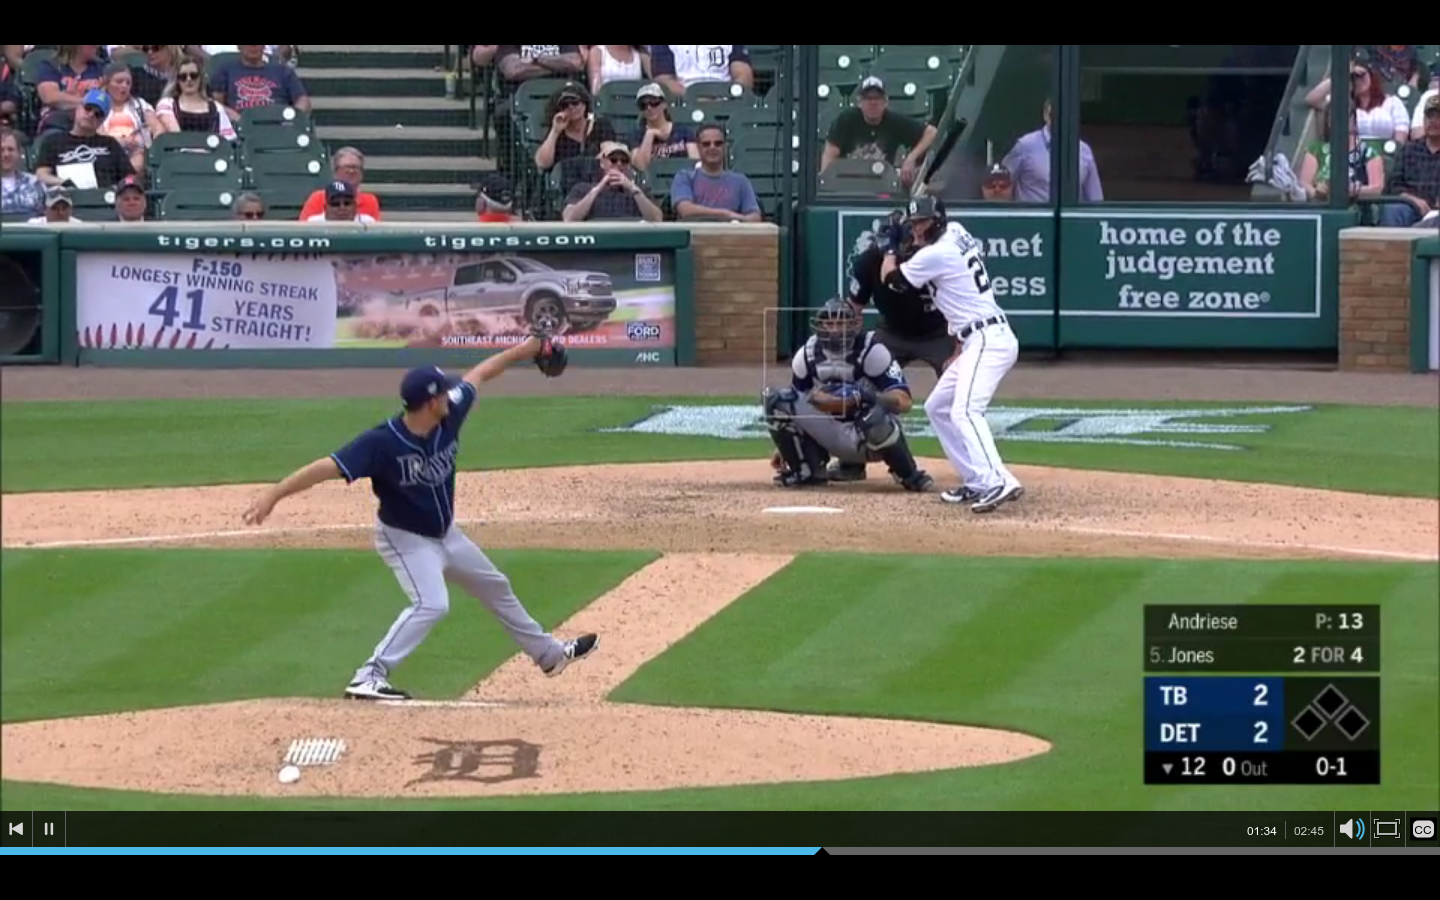baseball bat: (916, 117, 967, 191)
baseball player: (241, 323, 604, 711), (878, 203, 1027, 531), (761, 303, 925, 486)
referee: (836, 205, 981, 385)
